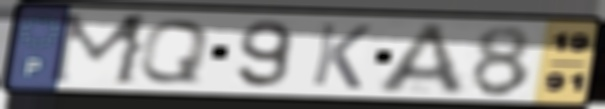8: (467, 23, 539, 98)
9: (235, 19, 297, 90)
A: (373, 21, 471, 97)
K: (307, 20, 375, 92)
M: (45, 11, 154, 88)
Q: (134, 17, 214, 85)
